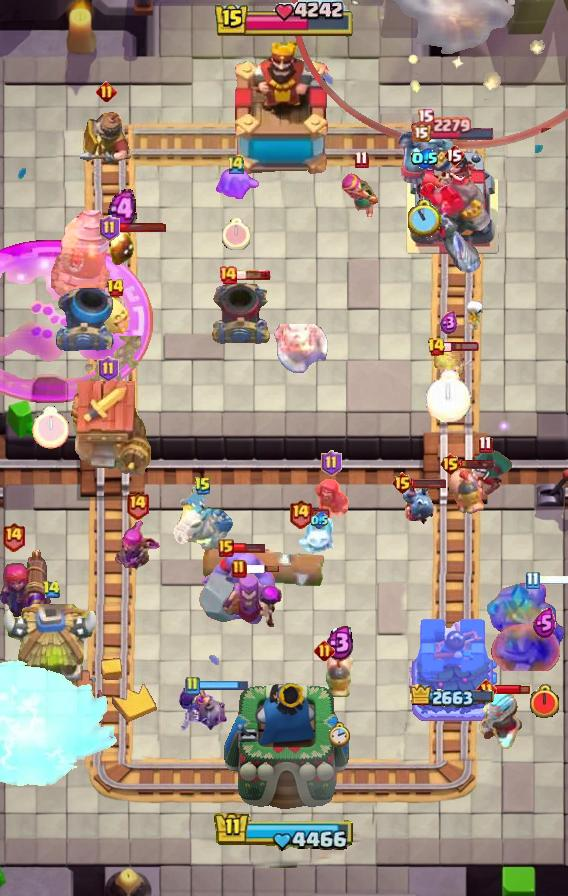archer: (342, 173, 380, 221)
archer-evolution: (111, 519, 163, 574)
axe: (274, 324, 330, 374)
bandit: (455, 450, 515, 502)
bar: (197, 680, 249, 691), (117, 222, 167, 233), (459, 458, 496, 470), (443, 341, 480, 353), (411, 477, 447, 489), (235, 269, 271, 281), (495, 683, 530, 695), (232, 542, 265, 554), (244, 564, 280, 574), (538, 575, 568, 585), (311, 508, 330, 518)
bar-level: (1, 521, 26, 552), (288, 498, 313, 529), (125, 489, 150, 520), (391, 471, 414, 495), (439, 452, 462, 476), (321, 450, 342, 476), (98, 356, 119, 382), (99, 215, 120, 241), (443, 143, 465, 167), (476, 679, 497, 700), (314, 640, 335, 661), (96, 81, 117, 102), (226, 154, 246, 175), (218, 265, 238, 285), (427, 337, 446, 357), (106, 278, 125, 298), (42, 580, 61, 599), (194, 476, 212, 496), (417, 108, 434, 127), (184, 676, 200, 696), (231, 559, 247, 579), (218, 539, 234, 557), (525, 571, 540, 590), (478, 435, 493, 454), (354, 150, 369, 169)
bomber-evolution: (177, 684, 231, 734)
clock: (426, 369, 472, 422), (32, 406, 69, 449), (408, 200, 442, 237), (528, 684, 561, 720), (222, 218, 250, 250), (329, 722, 351, 748)
dirt: (80, 336, 141, 383)
elixir: (108, 189, 137, 230), (325, 624, 355, 661), (533, 608, 556, 638), (411, 148, 439, 169), (440, 311, 458, 335), (311, 512, 328, 529)
fire-spirit: (109, 232, 135, 266)
firecracker-evolution: (0, 547, 52, 619)
heal-spirit: (97, 295, 133, 337)
ice-spirit: (298, 517, 340, 563)
ice-spirit-evolution: (211, 167, 261, 205)
ice-wizard: (475, 686, 525, 752)
king-tower: (220, 678, 349, 826), (228, 41, 340, 181)
king-tower-bar: (214, 811, 355, 852), (213, 0, 355, 40)
lava-pup: (431, 348, 467, 380)
mega-minion: (395, 118, 455, 196)
minion: (401, 480, 437, 524)
mortar: (210, 280, 272, 348), (54, 287, 114, 351)
mother-witch: (221, 573, 285, 631)
queen-tower: (403, 146, 503, 256), (409, 616, 497, 731)
royal-hog: (446, 466, 486, 518), (324, 647, 356, 699)
royal-recruit: (80, 105, 132, 173)
skeleton: (462, 298, 490, 330)
the-log: (201, 542, 327, 592)
tower-bar: (410, 684, 496, 710), (411, 116, 496, 142)
wizard: (312, 479, 350, 525)
